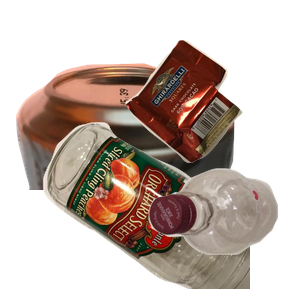glass: (41, 120, 281, 300)
metal: (13, 61, 240, 241)
plastic: (146, 166, 300, 300)
trash: (123, 37, 300, 192)
